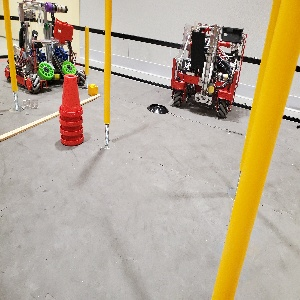Red_4: (54, 77, 87, 144)
